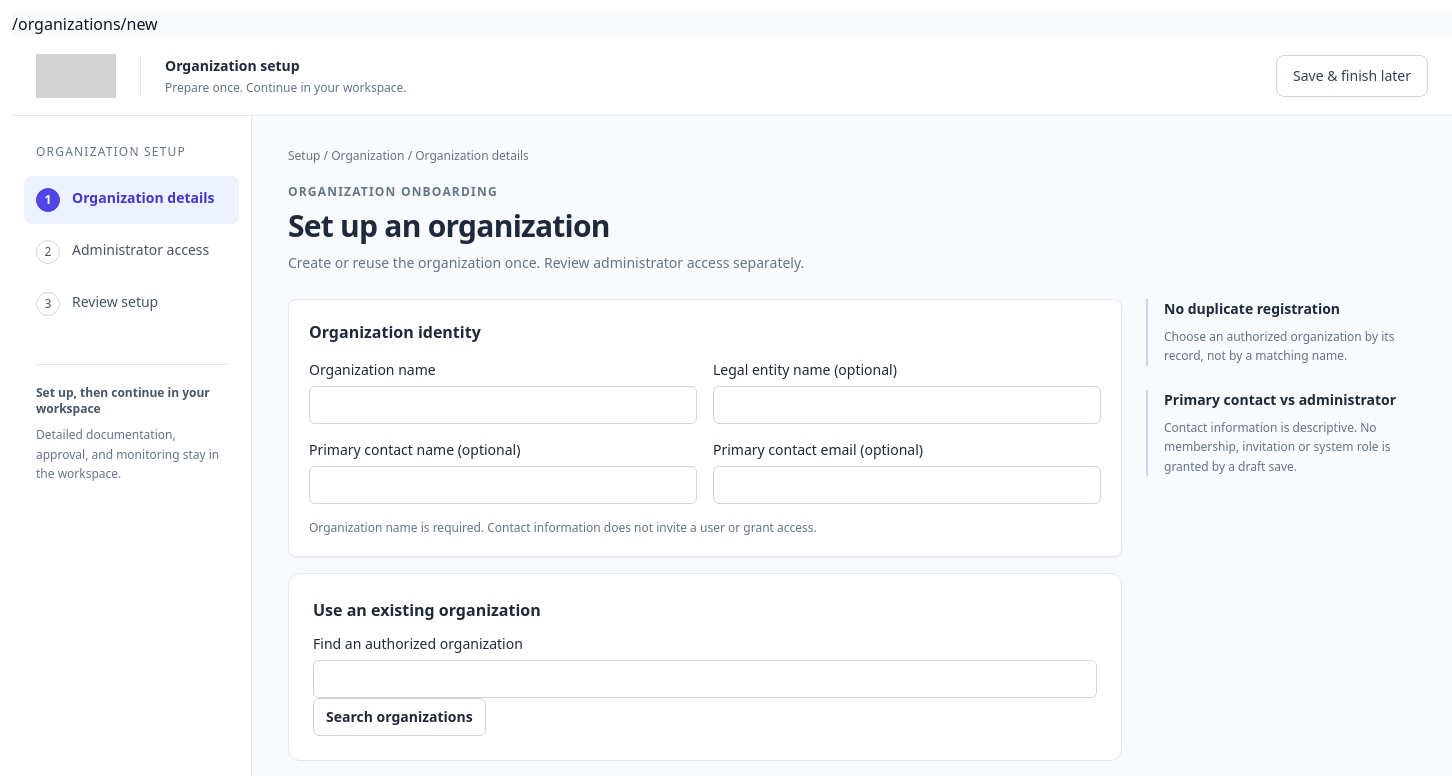
Test: CSP Add Organization approved flow › retains edits when uncertain draft read returns 404
This screenshot has width=1452, height=776.
Type "Keep while uncertain" into the field labelled "Organization name" at (503, 405), box [309, 386, 697, 424]
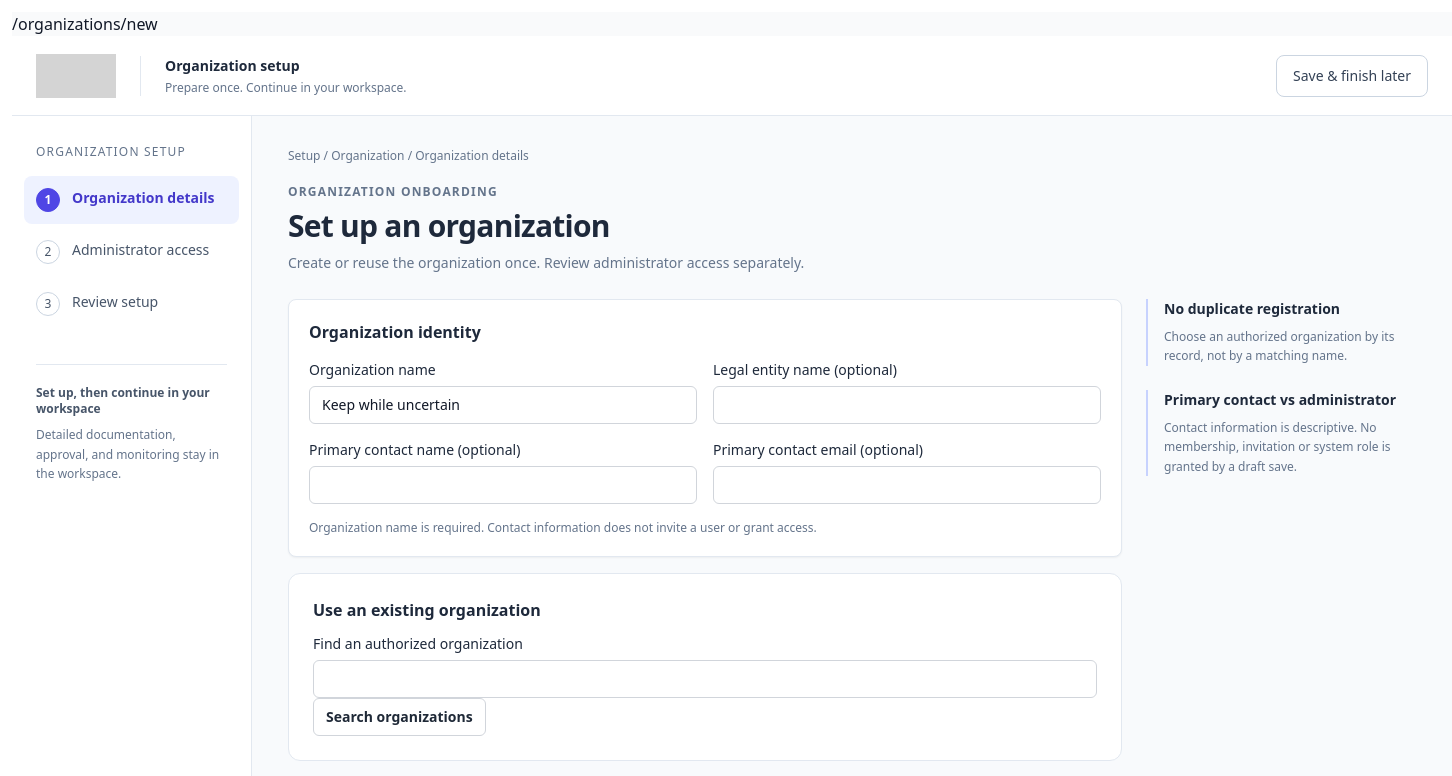
Click the button "Save & finish later" at (1352, 76), box [1276, 54, 1428, 96]
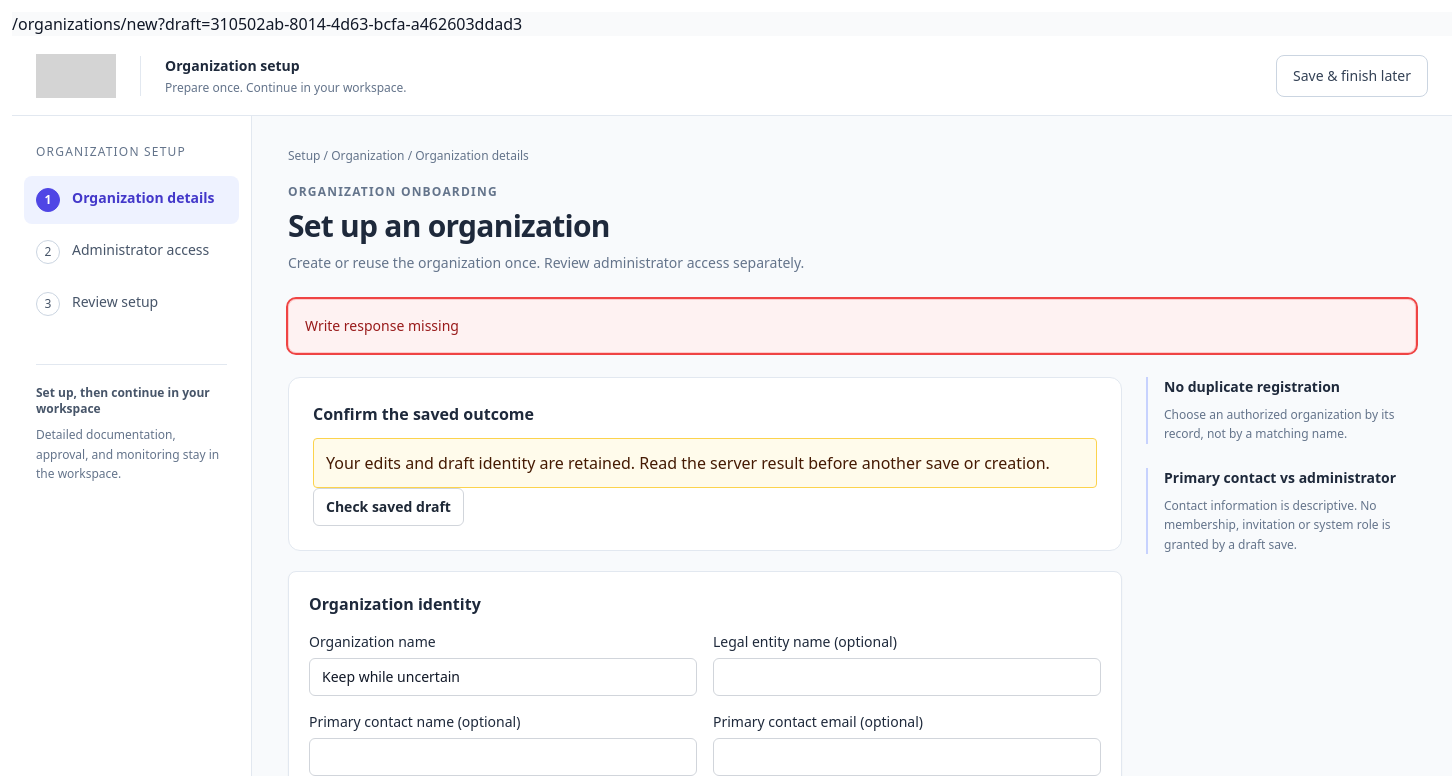
Click the button "Check saved draft" at (388, 507), box [313, 488, 464, 526]
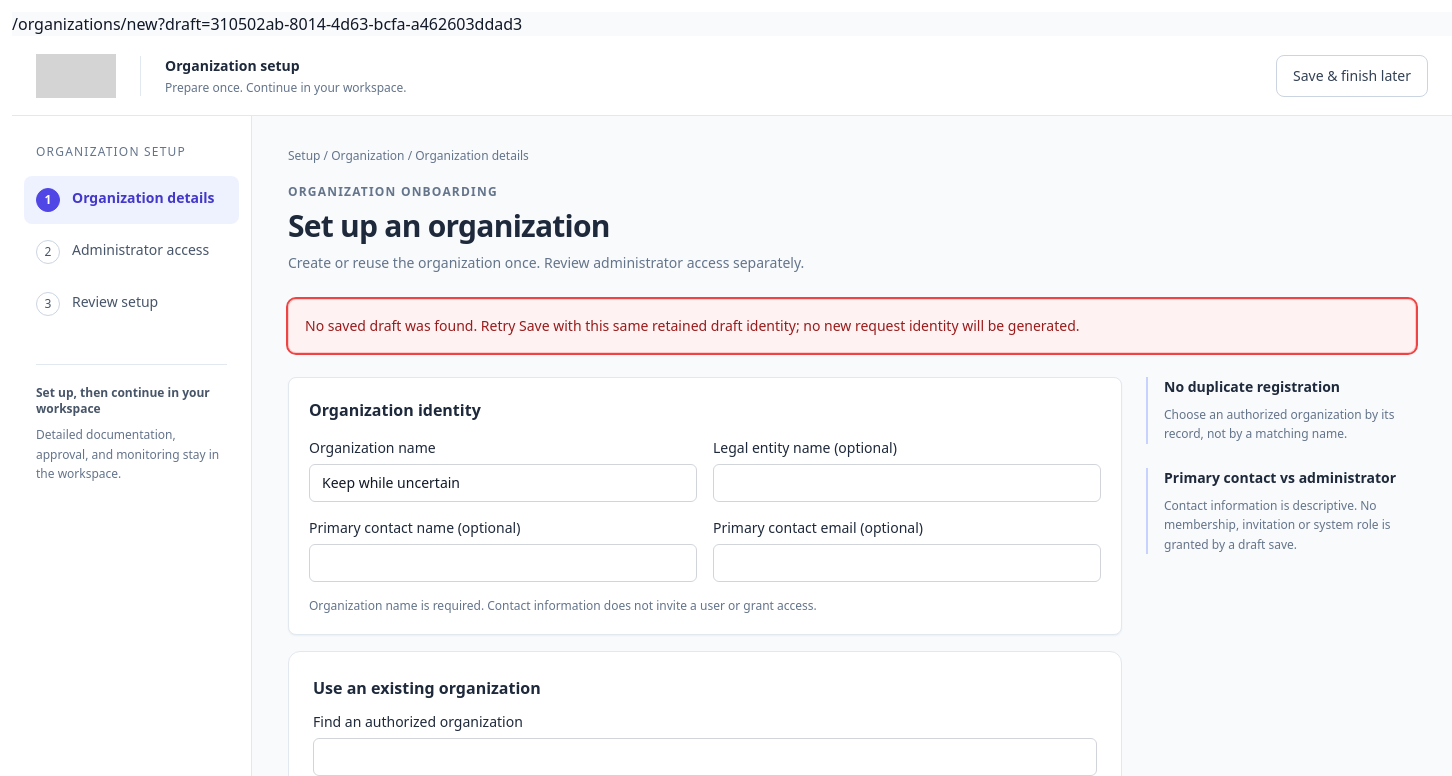
Expected: the message shows "No saved draft was found", [305, 316, 1080, 335]
